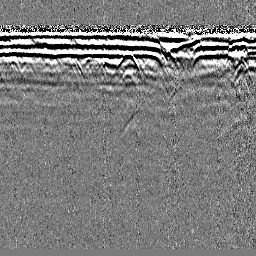cavity: (116, 48, 139, 70)
